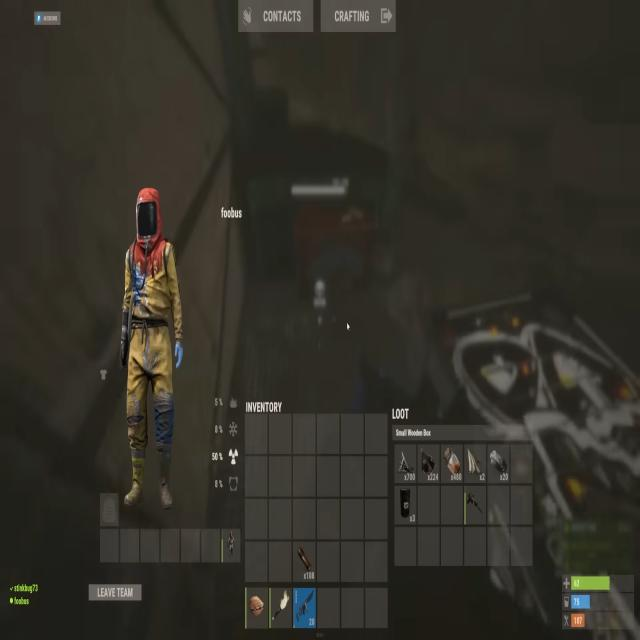Player: (119, 184, 185, 511)
